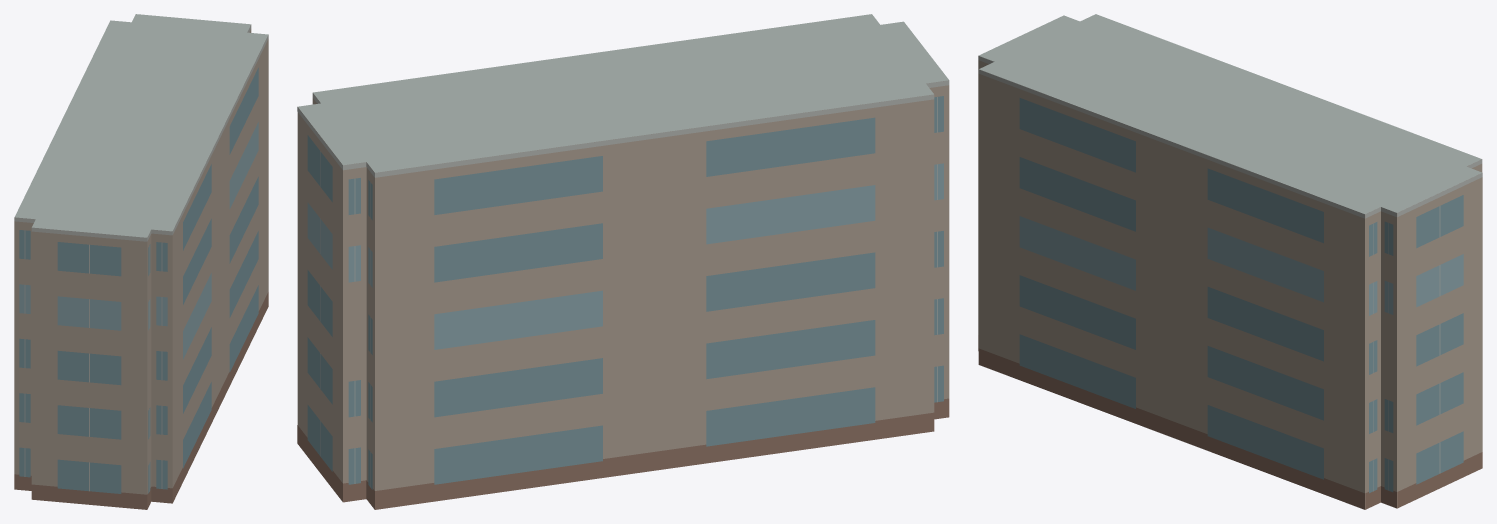
Rendered from survey-upis-32790199.glb.
3 renders of one model, left to right at view 1: azimuth 30°, elevation 25°; view 2: azimuth 150°, elevation 25°; view 3: azimuth 270°, elevation 25°, orthographic. The views are drawn at different scales.
Parts seen in each view (by area): view 1: survey-upis-32790199.tmp; view 2: survey-upis-32790199.tmp; view 3: survey-upis-32790199.tmp.
Boxes of the visible parts, x1=… form: survey-upis-32790199.tmp: x1=14, y1=14, x2=268, y2=509; survey-upis-32790199.tmp: x1=297, y1=14, x2=949, y2=509; survey-upis-32790199.tmp: x1=978, y1=14, x2=1482, y2=509.
Size of the model in its own units: 24.06 by 16.55 by 25.6.
